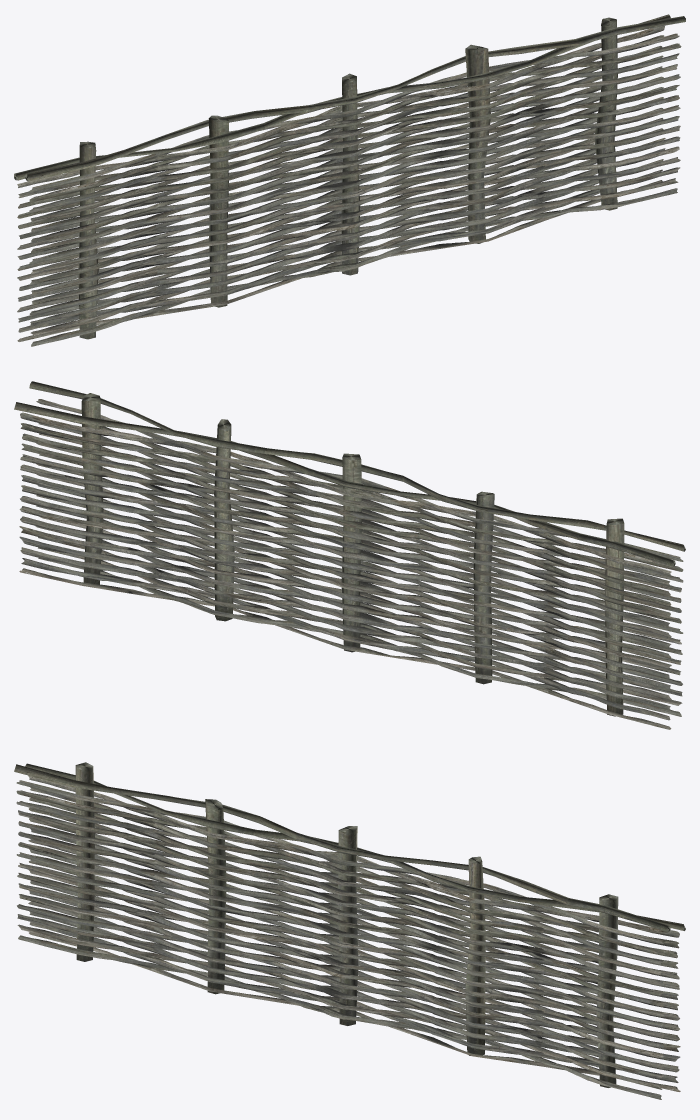
Rendered from weavefence.fbx.
The picture shows the model from 3 angles, top to bottom: view 1: azimuth 30°, elevation 25°; view 2: azimuth 150°, elevation 25°; view 3: azimuth 330°, elevation 25°; orthographic projection.
Parts seen in each view (by area): view 1: weavefence; view 2: weavefence; view 3: weavefence.
Part boxes in pixels (x1,y1,x2,y2): weavefence: (14, 14, 685, 346); weavefence: (14, 381, 685, 729); weavefence: (14, 762, 685, 1099).
Bounding box in the file's own units: 760 × 214 × 37.7.
